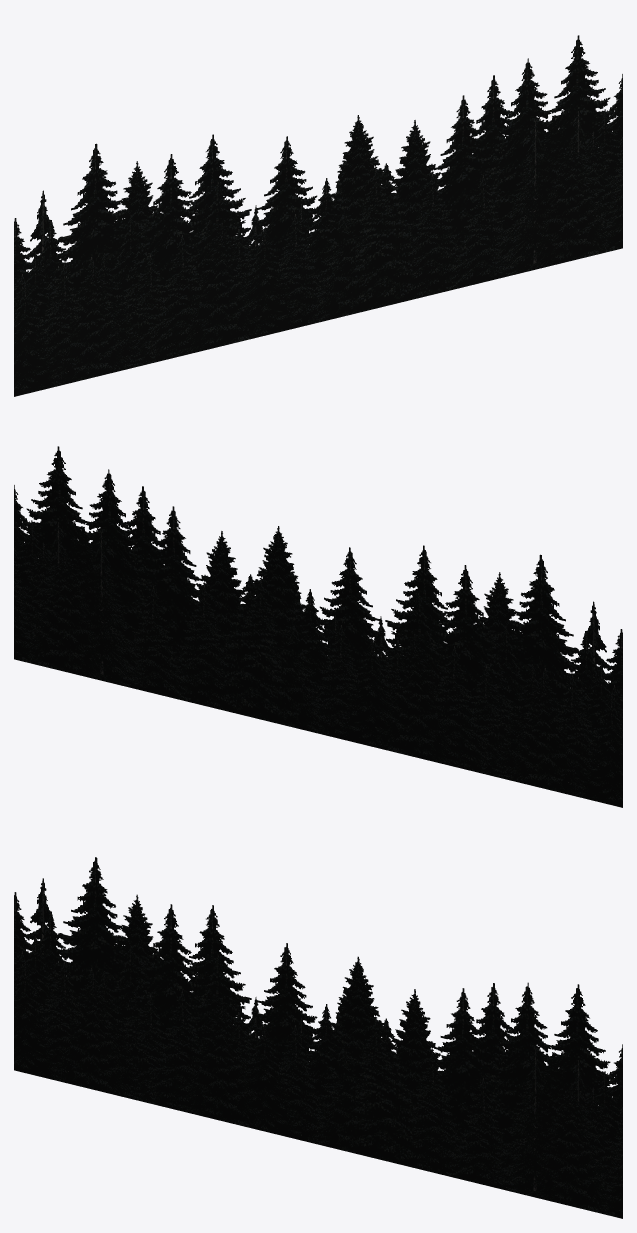
The model's file is SM_EC_TreeLine_1.002.fbx.
3 renders of one model, top to bottom at view 1: azimuth 30°, elevation 25°; view 2: azimuth 150°, elevation 25°; view 3: azimuth 330°, elevation 25°, orthographic.
Visible parts, largest first — view 1: SM_EC_TreeLine_1.002; view 2: SM_EC_TreeLine_1.002; view 3: SM_EC_TreeLine_1.002.
Boxes of the visible parts, box(x1,y1,x2,y2) form: SM_EC_TreeLine_1.002: box(14, 35, 622, 396); SM_EC_TreeLine_1.002: box(14, 446, 622, 807); SM_EC_TreeLine_1.002: box(14, 857, 622, 1218).
Bounding box in the file's own units: 15 × 4.16e-07 × 5.51.
